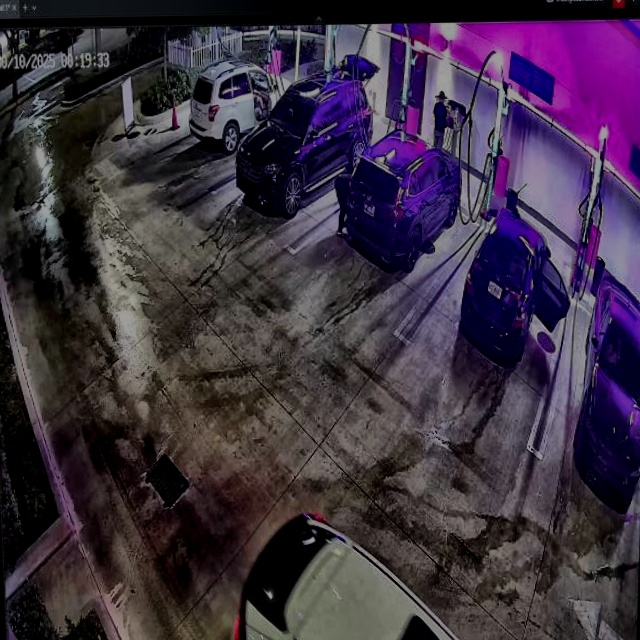Car: (236, 55, 372, 225), (458, 203, 566, 362), (341, 135, 461, 268), (189, 62, 301, 149)
